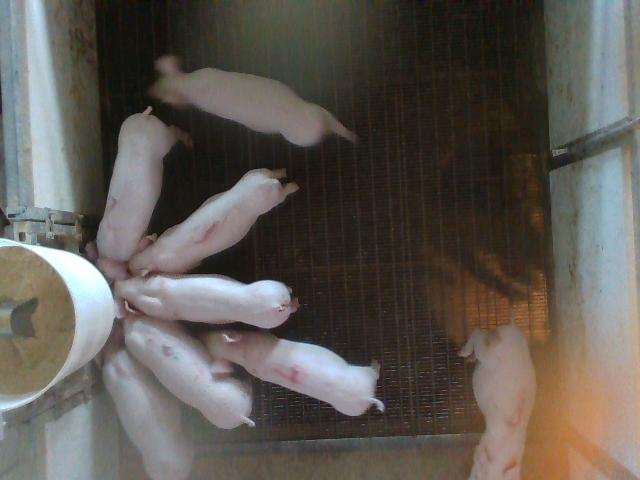pig-1: (129, 169, 299, 275)
pig-3: (460, 324, 536, 478)
pig-4: (201, 330, 385, 416)
